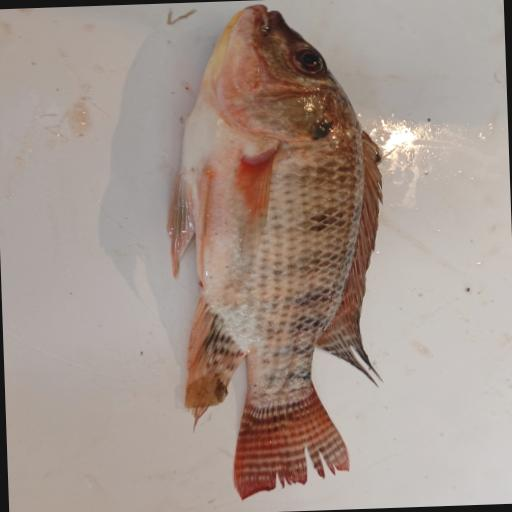Tilapia: (159, 0, 395, 502)
